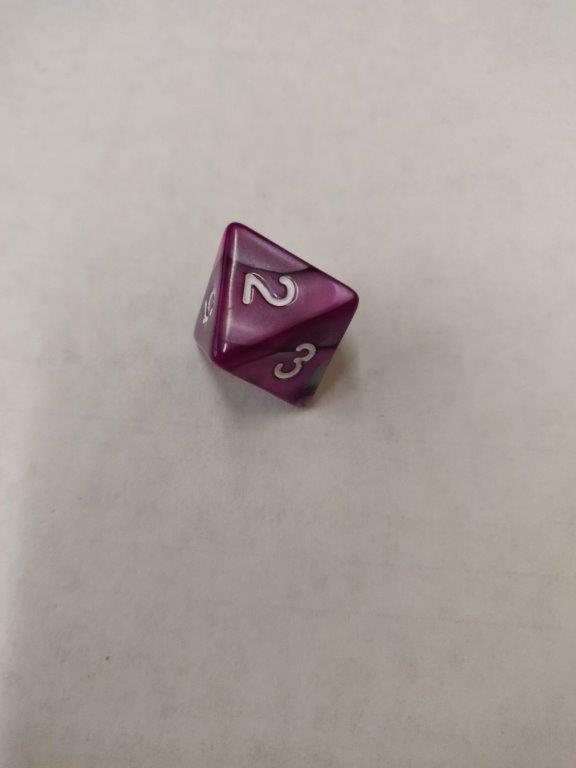d8-2: (192, 222, 359, 409)
